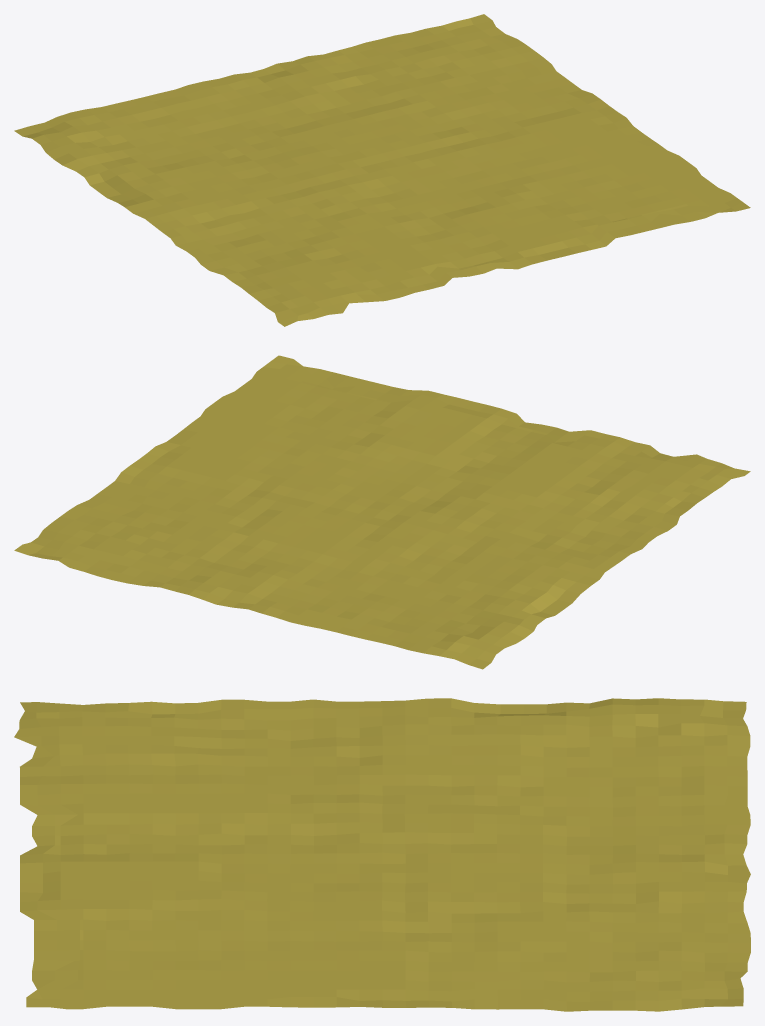
Rendered from Ground.fbx.
3 views of the same model, one above another, from view 1: azimuth 30°, elevation 25°; view 2: azimuth 150°, elevation 25°; view 3: azimuth 270°, elevation 25° (orthographic). The views are drawn at different scales.
Visible parts, largest first — view 1: Ground; view 2: Ground; view 3: Ground.
Part boxes in pixels (bbox=[...]): Ground: bbox=[14, 14, 750, 326]; Ground: bbox=[14, 355, 750, 669]; Ground: bbox=[14, 698, 750, 1011].
Bounding box in the file's own units: 3 × 3 × 0.0389.
